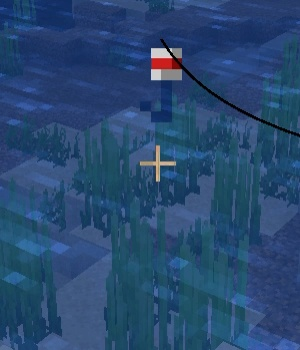up: (138, 40, 190, 122)
